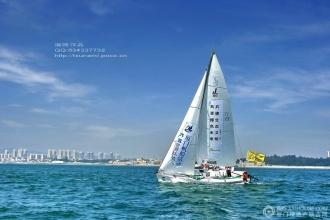fanchuan: (156, 49, 262, 185)
